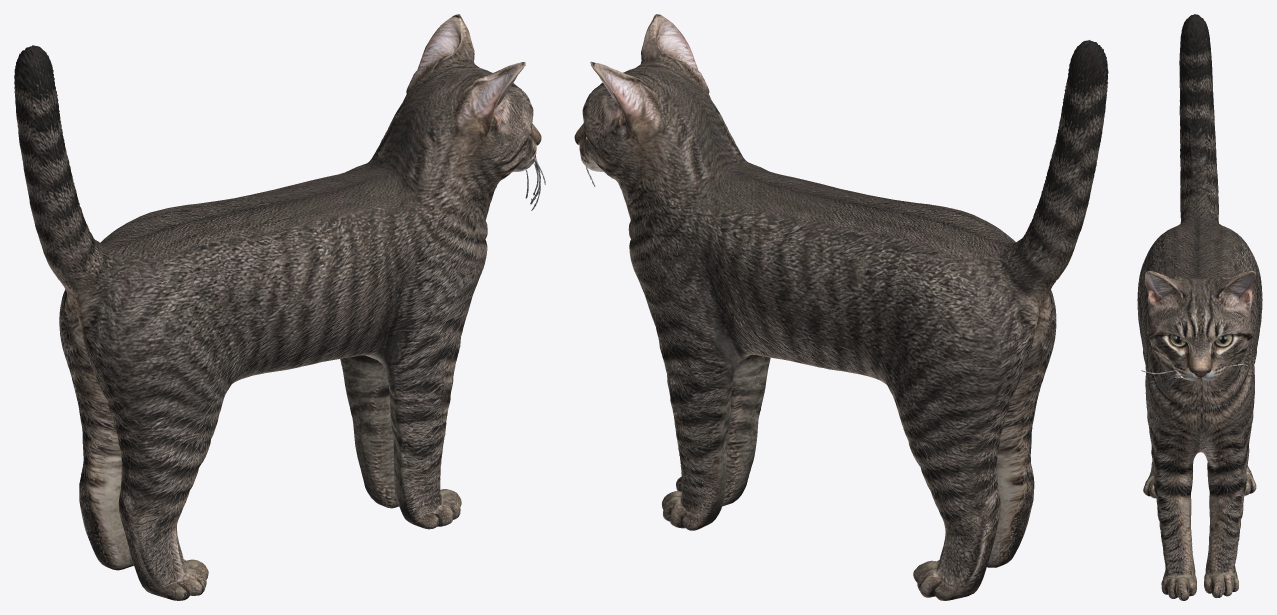
File: NORAKEYS.glb
3 renders of one model, left to right at view 1: azimuth 30°, elevation 25°; view 2: azimuth 150°, elevation 25°; view 3: azimuth 270°, elevation 25°, orthographic. The views are drawn at different scales.
Parts seen in each view (by area): view 1: tripo_node_44045ed2-9b21-483a-ada4-564044b7adbf; view 2: tripo_node_44045ed2-9b21-483a-ada4-564044b7adbf; view 3: tripo_node_44045ed2-9b21-483a-ada4-564044b7adbf.
Part boxes in pixels (bbox=[...]): tripo_node_44045ed2-9b21-483a-ada4-564044b7adbf: bbox=[14, 14, 545, 600]; tripo_node_44045ed2-9b21-483a-ada4-564044b7adbf: bbox=[574, 14, 1108, 600]; tripo_node_44045ed2-9b21-483a-ada4-564044b7adbf: bbox=[1137, 14, 1262, 600].
Bounding box in the file's own units: 0.9768 × 0.9999 × 0.2621.
Materials: 1 (1 with a texture image).
